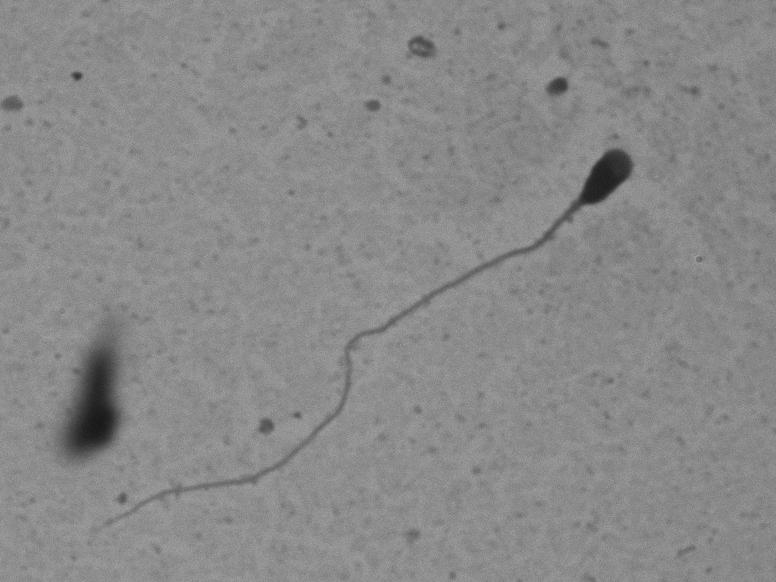Abnormal: (102, 98, 695, 546)
